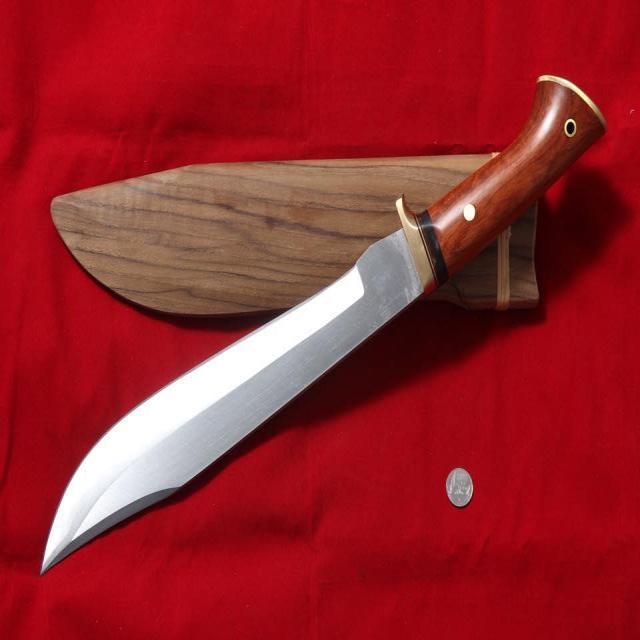short sword: (32, 65, 610, 583)
